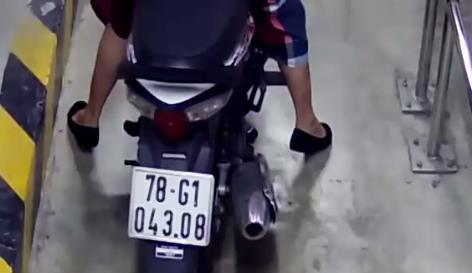lisence: (128, 167, 215, 247)
